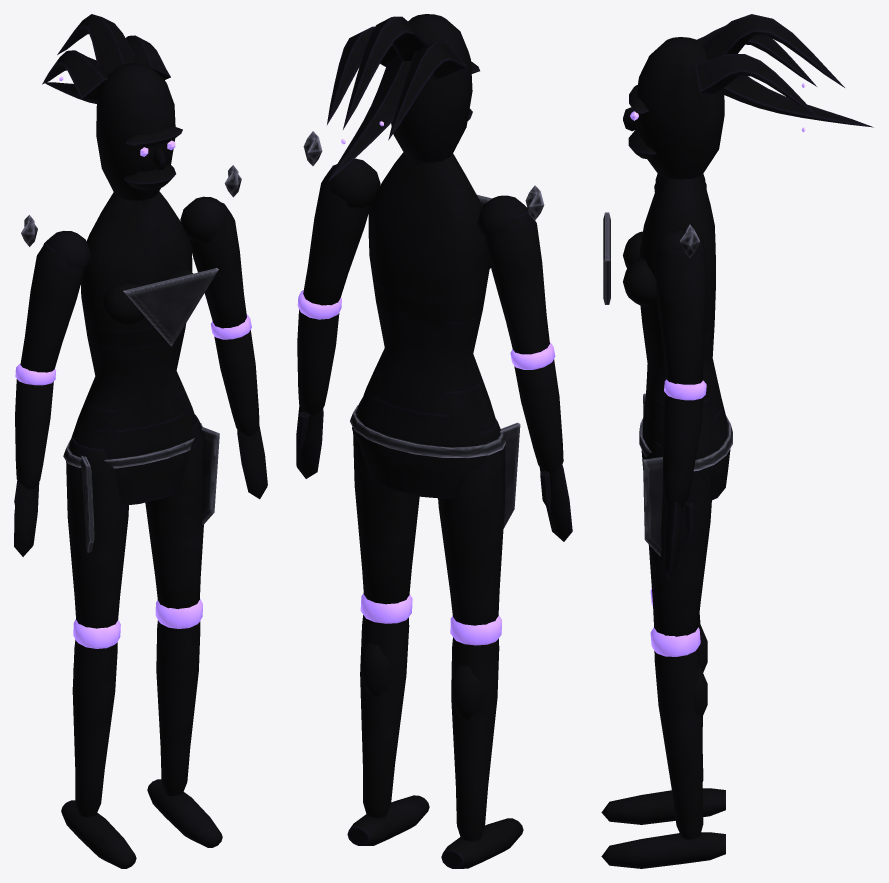
The model's file is underworld-surtling-umbral-feminine.glb.
3 renders of one model, left to right at view 1: azimuth 30°, elevation 25°; view 2: azimuth 150°, elevation 25°; view 3: azimuth 270°, elevation 25°, orthographic. The views are drawn at different scales.
Visible parts, largest first — view 1: Chest.chest, Spine.abdomen, LeftUpperLeg.thigh, Head.head, RightUpperLeg.thigh, Hips.pelvis, LeftLowerLeg.shin, RightLowerLeg.shin, LeftUpperArm.upper-arm, RightUpperArm.upper-arm, Chest.ritual-plate, LeftLowerArm.forearm (+20 smaller); view 2: Chest.chest, Spine.abdomen, Hips.pelvis, LeftUpperLeg.thigh, RightUpperLeg.thigh, LeftLowerLeg.shin, Head.head, RightLowerLeg.shin, LeftUpperArm.upper-arm, RightUpperArm.upper-arm, LeftLowerArm.forearm, RightLowerArm.forearm (+18 smaller); view 3: Head.head, RightLowerLeg.shin, RightUpperLeg.thigh, RightUpperArm.upper-arm, Chest.chest, RightLowerArm.forearm, RightFoot.foot, Hips.pelvis, Spine.abdomen, Head.smoke-0, LeftFoot.foot, Head.smoke-2 (+10 smaller).
Boxes of the visible parts, <box> form: Chest.chest: <box>80,191,192,349</box>; Spine.abdomen: <box>86,323,192,432</box>; LeftUpperLeg.thigh: <box>66,437,128,628</box>; Head.head: <box>96,63,175,200</box>; RightUpperLeg.thigh: <box>145,414,203,609</box>; Hips.pelvis: <box>69,389,197,505</box>; LeftLowerLeg.shin: <box>72,639,117,816</box>; RightLowerLeg.shin: <box>156,620,200,795</box>; LeftUpperArm.upper-arm: <box>20,242,84,372</box>; RightUpperArm.upper-arm: <box>189,202,246,328</box>; Chest.ritual-plate: <box>123,268,218,346</box>; LeftLowerArm.forearm: <box>15,379,53,489</box>; Chest.chest: <box>368,152,490,324</box>; Spine.abdomen: <box>369,283,483,417</box>; Hips.pelvis: <box>352,369,495,498</box>; LeftUpperLeg.thigh: <box>438,419,504,625</box>; RightUpperLeg.thigh: <box>353,397,419,604</box>; LeftLowerLeg.shin: <box>451,637,499,841</box>; Head.head: <box>391,14,472,162</box>; RightLowerLeg.shin: <box>360,615,409,818</box>; LeftUpperArm.upper-arm: <box>484,209,549,354</box>; RightUpperArm.upper-arm: <box>303,164,370,305</box>; LeftLowerArm.forearm: <box>514,359,563,474</box>; RightLowerArm.forearm: <box>297,309,339,416</box>; Head.head: <box>635,37,724,179</box>; RightLowerLeg.shin: <box>654,647,703,839</box>; RightUpperLeg.thigh: <box>646,442,711,636</box>; RightUpperArm.upper-arm: <box>654,248,706,384</box>; Chest.chest: <box>639,174,715,334</box>; RightLowerArm.forearm: <box>662,393,703,507</box>; RightFoot.foot: <box>601,832,725,868</box>; Hips.pelvis: <box>641,397,730,500</box>; Spine.abdomen: <box>642,309,721,427</box>; Head.smoke-0: <box>703,14,844,87</box>; LeftFoot.foot: <box>601,788,725,824</box>; Head.smoke-2: <box>694,54,816,115</box>.
Size of the model in its own units: 0.6478 by 1.94 by 0.577.
3 materials, 3 textured.
